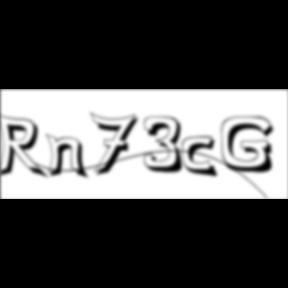3: (144, 116, 190, 176)
7: (90, 111, 144, 179)
G: (222, 116, 280, 176)
R: (0, 112, 52, 182)
c: (182, 136, 222, 180)
n: (46, 132, 92, 181)
